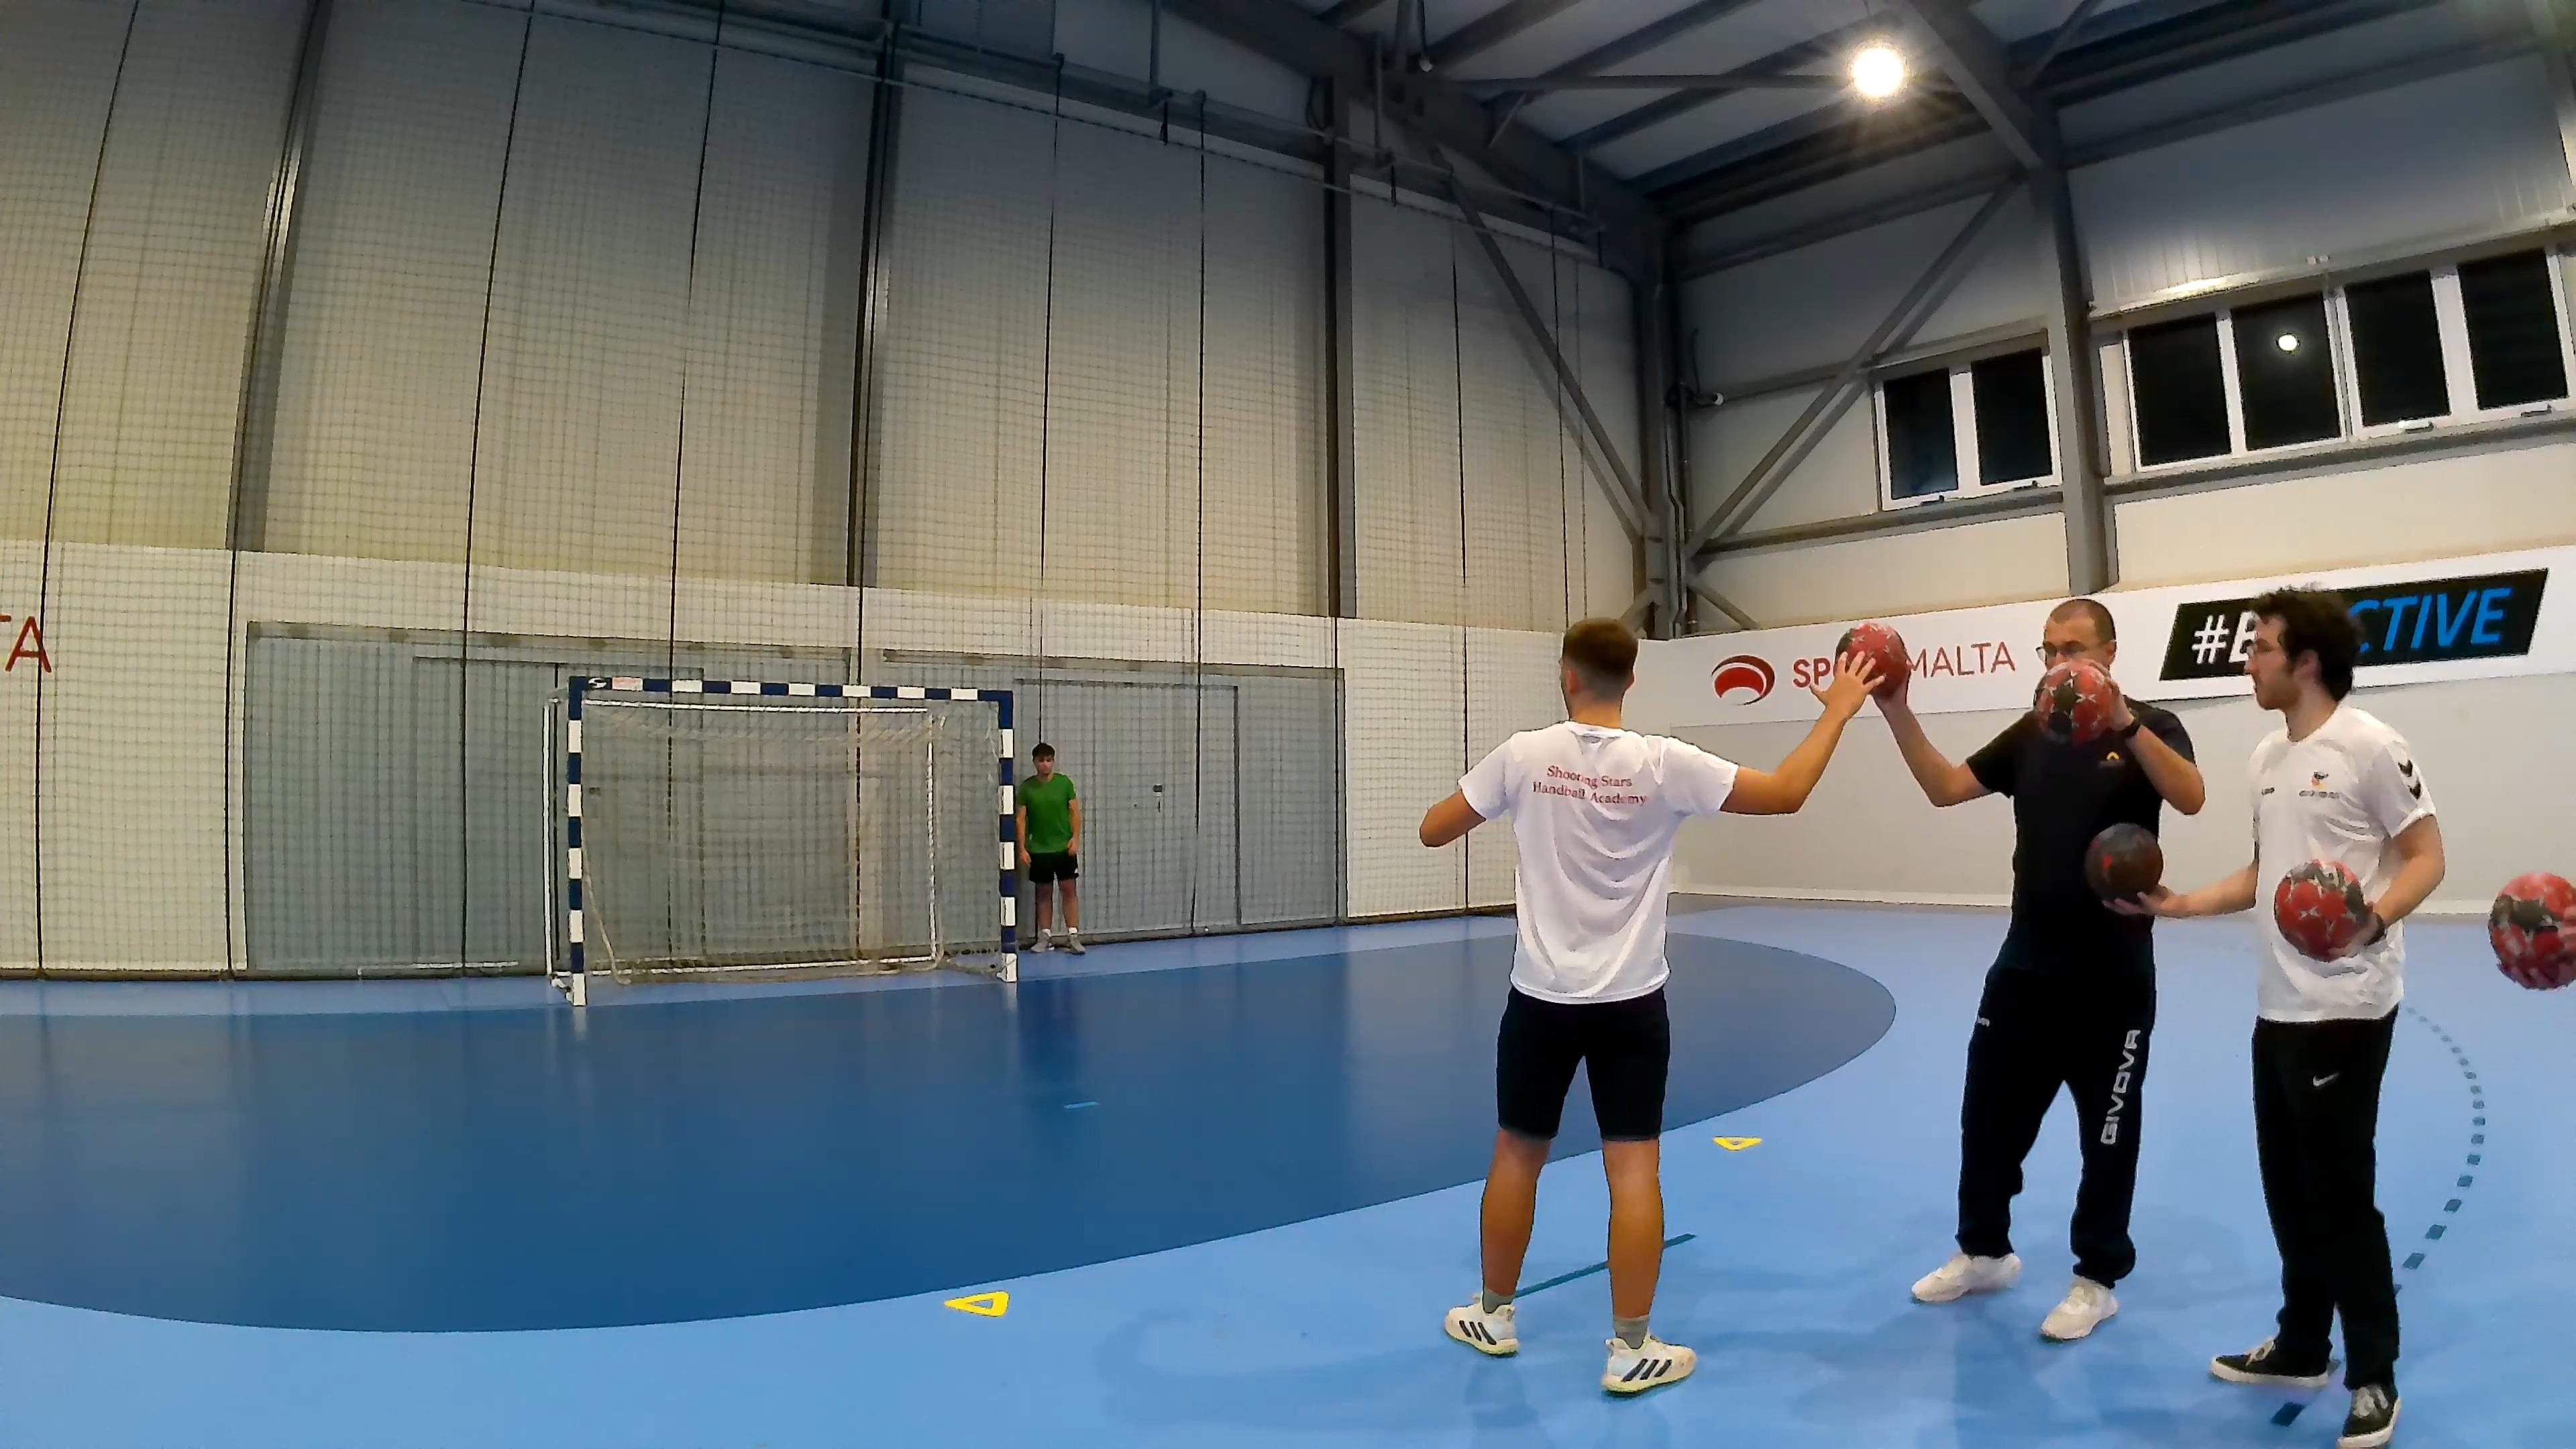handball: (2488, 870, 2576, 991), (2272, 858, 2371, 961), (2035, 660, 2112, 747), (2082, 821, 2162, 904), (1835, 621, 1913, 697)
